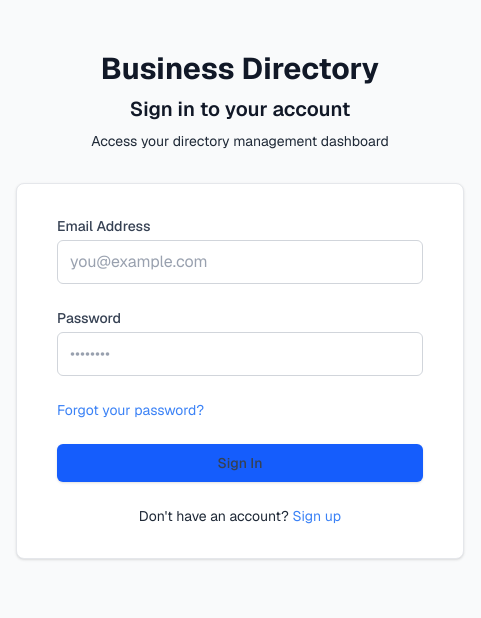
User Login Flow and Dashboard Access › shows appropriate error for user login failures
The image size is (481, 618).
Type "wrong-user@example.com" into the field labelled "Email Address" at [240, 262], box [57,240,423,284]
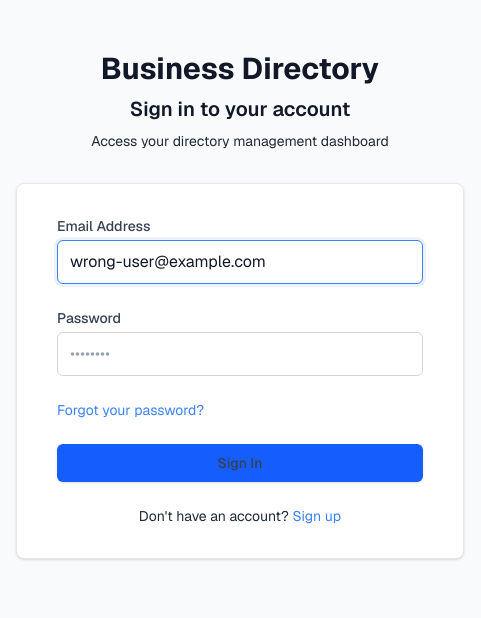
Type "wrongPassword" into the password field labelled "Password" at [240, 354], box [57,332,423,376]
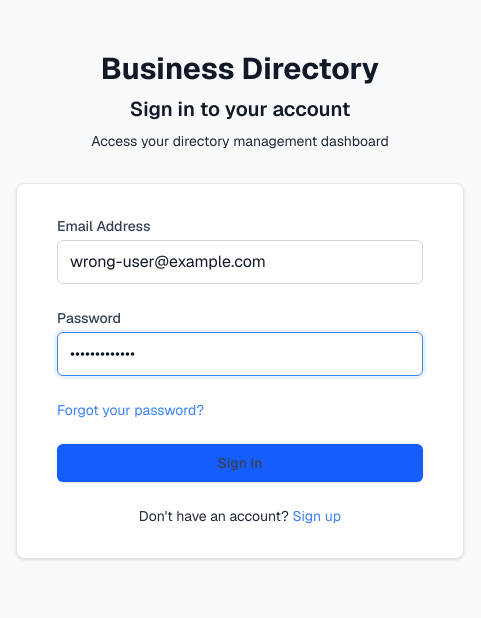
Click the button "Sign In" at [240, 463], box [57,444,423,482]
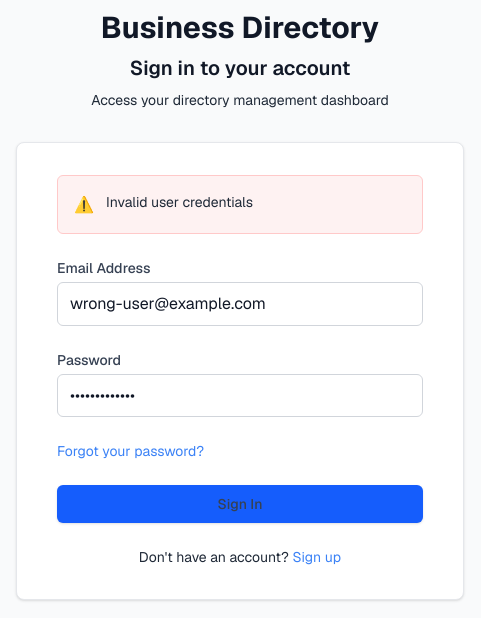
Now the text "Invalid user credentials" is shown, box [106,192,253,212]
Now the text "⚠️" is shown, box [74,194,94,215]
